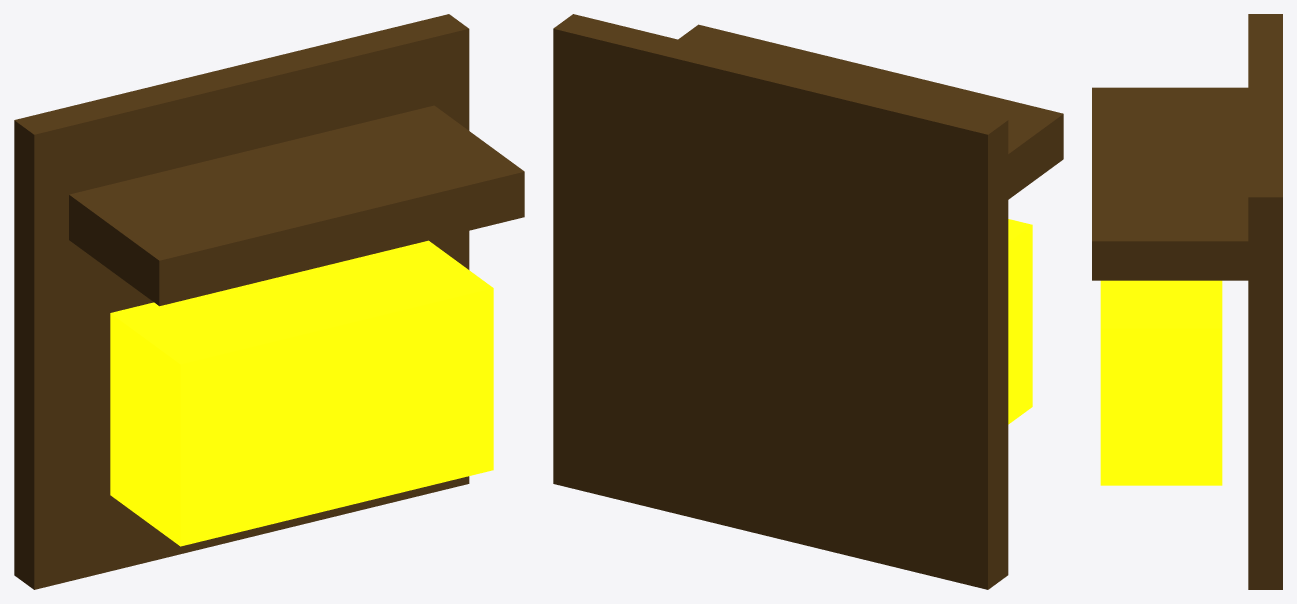
The model's file is LamparaParedfbx.fbx.
3 views of the same model, side by side, from view 1: azimuth 30°, elevation 25°; view 2: azimuth 150°, elevation 25°; view 3: azimuth 270°, elevation 25° (orthographic). The views are drawn at different scales.
Parts seen in each view (by area): view 1: WallLamp; view 2: WallLamp; view 3: WallLamp.
Boxes of the visible parts, bbox=[...] form: WallLamp: bbox=[14, 14, 524, 589]; WallLamp: bbox=[553, 14, 1063, 589]; WallLamp: bbox=[1092, 14, 1282, 589].
Bounding box in the file's own units: 0.5 × 0.5 × 0.22.
